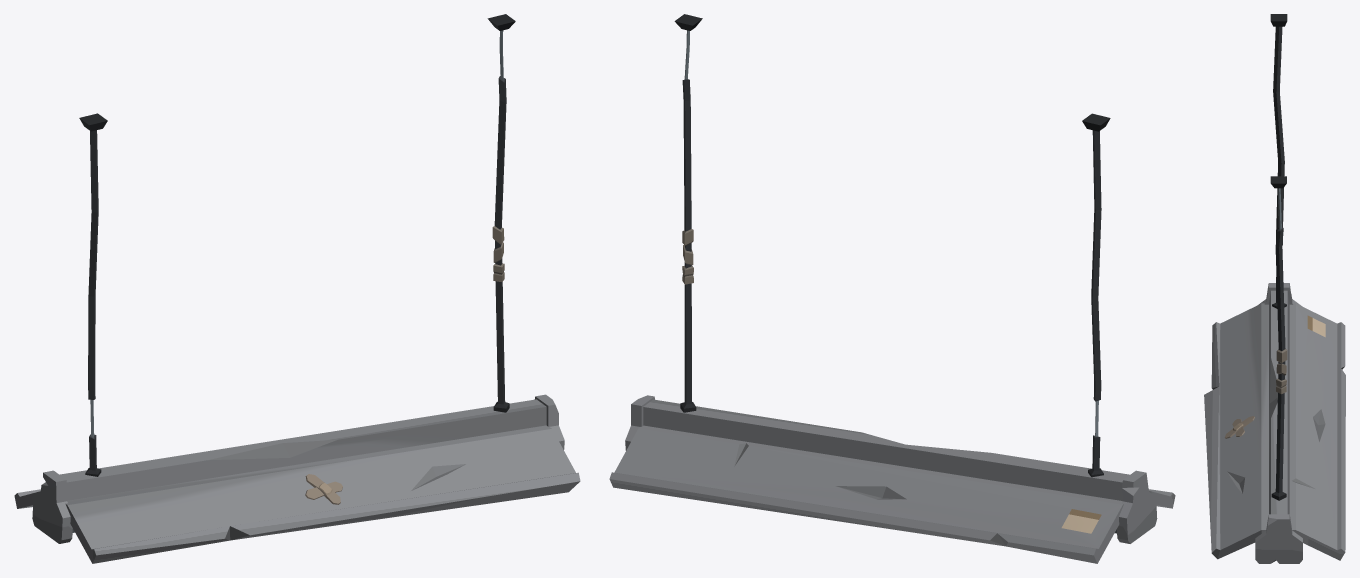
The model's file is SM_Prop_Light_01_299.obj.
3 views of the same model, side by side, from view 1: azimuth 30°, elevation 25°; view 2: azimuth 150°, elevation 25°; view 3: azimuth 270°, elevation 25° (orthographic). The views are drawn at different scales.
Visible parts, largest first — view 1: SM_Prop_Light_01_0; view 2: SM_Prop_Light_01_0; view 3: SM_Prop_Light_01_0.
Boxes of the visible parts, bbox=[...] form: SM_Prop_Light_01_0: bbox=[14, 14, 580, 563]; SM_Prop_Light_01_0: bbox=[609, 14, 1175, 563]; SM_Prop_Light_01_0: bbox=[1204, 14, 1345, 563].
Size of the model in its own units: 2.3 by 1.96 by 0.6856.
Materials: 1 (1 with a texture image).
